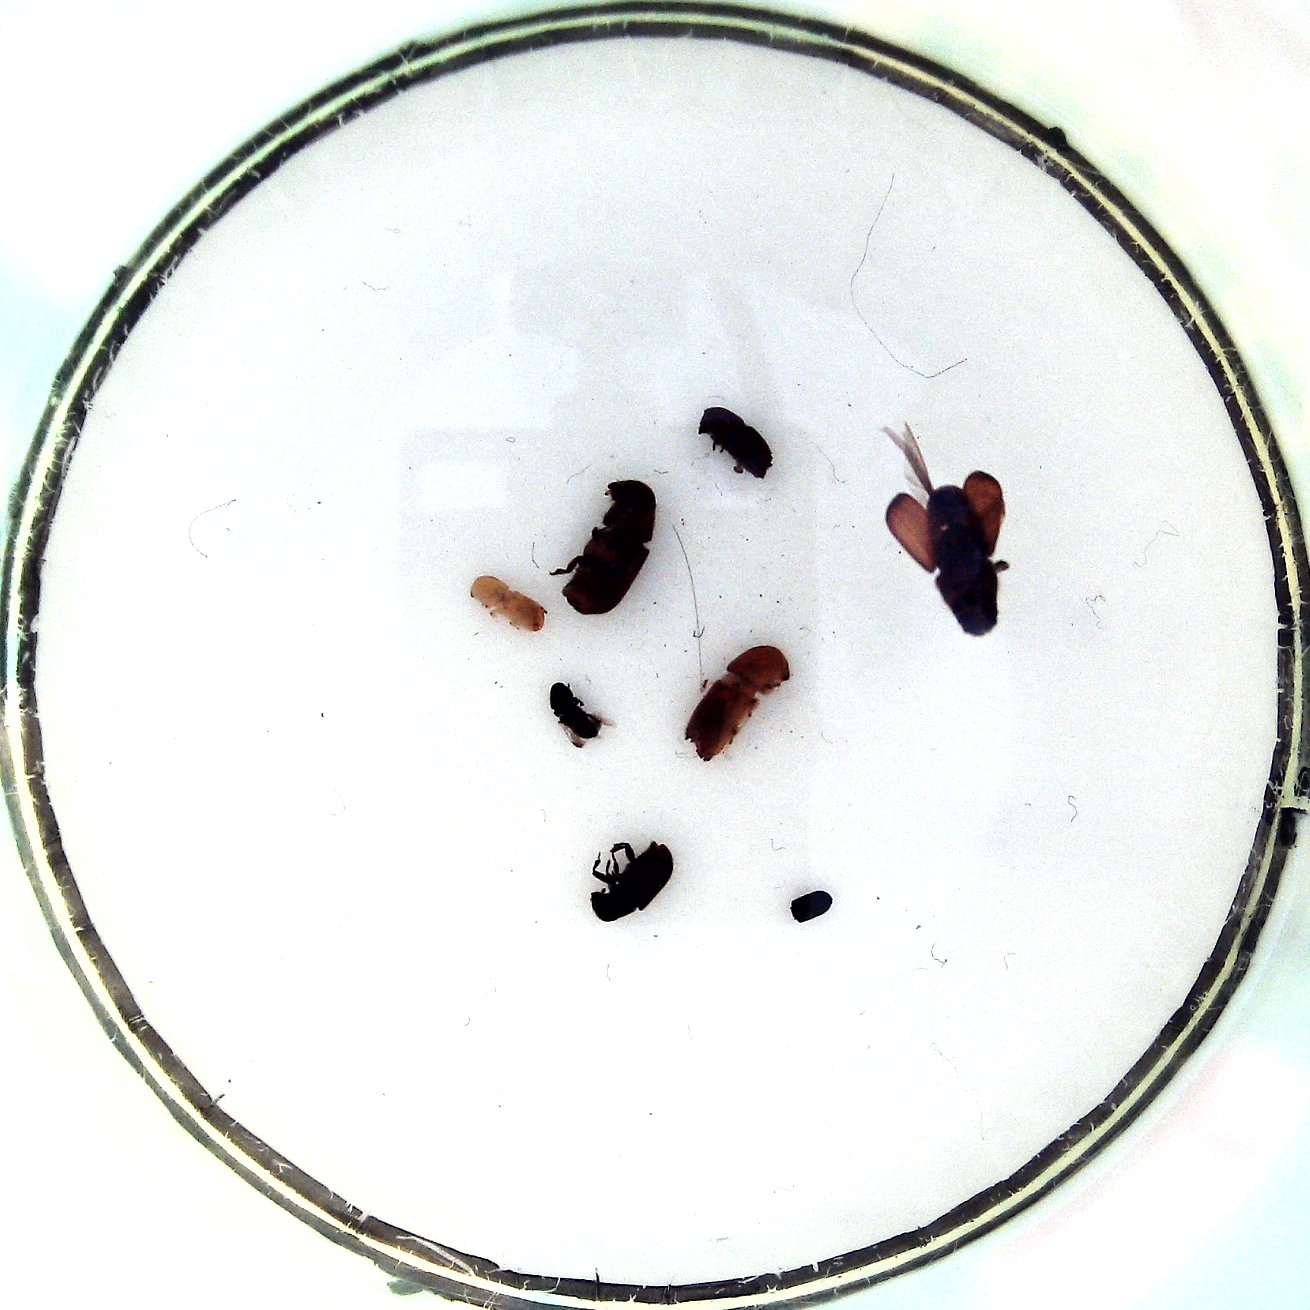Boerner: (681, 642, 800, 767)
Leconte: (877, 419, 1012, 639), (545, 474, 666, 620)
Linnaeus: (695, 401, 777, 483)
acuminatus: (467, 567, 553, 639)
armandi: (584, 829, 683, 924)
coleoptera: (546, 674, 617, 750), (786, 883, 839, 925)
